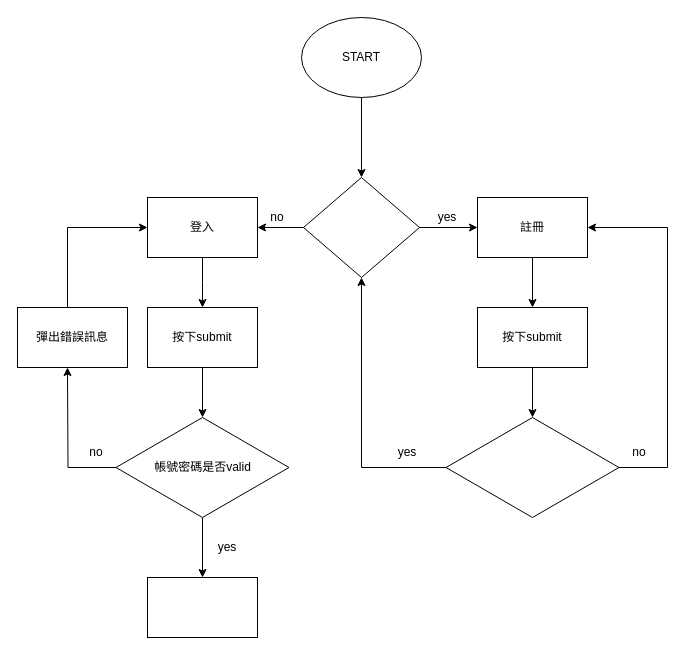
Some shapes in this 693 by 655 pixel diagram are drawn without their labels. The shapes that lost their labels are listed below. From the top down, each one's centre as x and y in pixels, then its label:
the point at 361,227: new user?
the point at 532,467: 輸入資料是否符合規範
the point at 202,607: 畫面切到to-do-list
